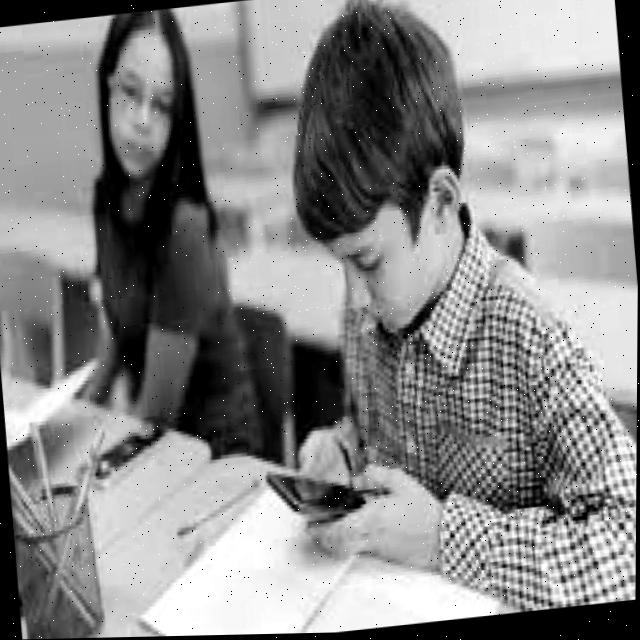phone: (262, 459, 368, 527)
